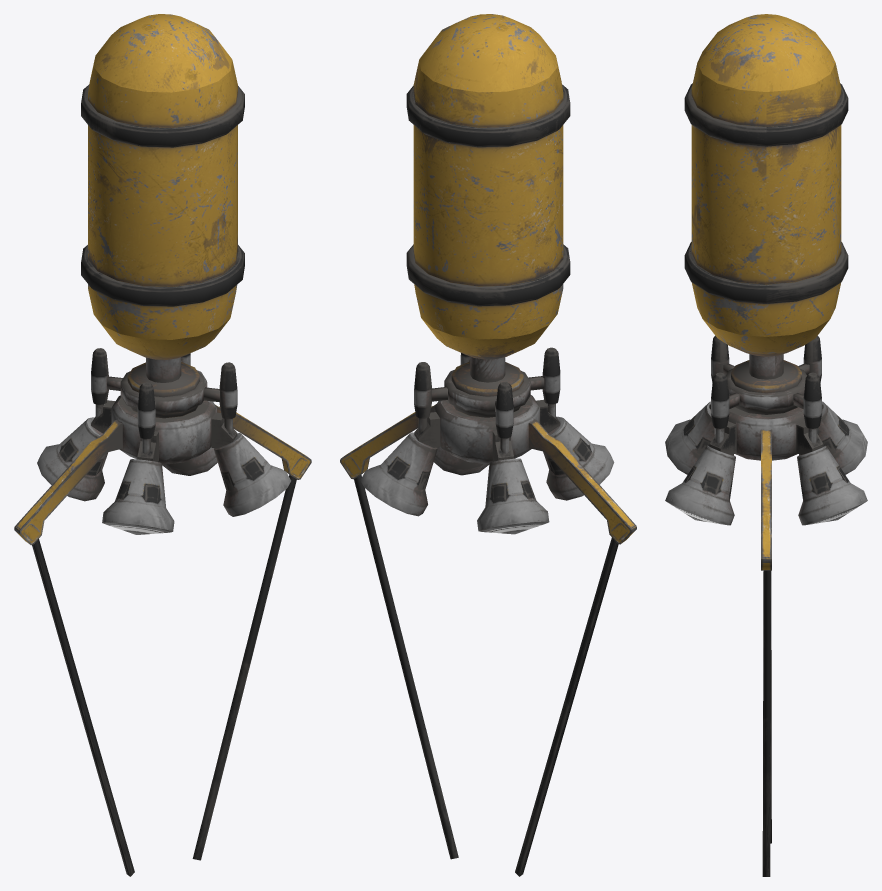
File: Signal_Light_A_Top.FBX
3 views of the same model, side by side, from view 1: azimuth 30°, elevation 25°; view 2: azimuth 150°, elevation 25°; view 3: azimuth 270°, elevation 25° (orthographic).
Parts seen in each view (by area): view 1: Geometry_Light_A_Top_LOD00; view 2: Geometry_Light_A_Top_LOD00; view 3: Geometry_Light_A_Top_LOD00.
Part boxes in pixels (<box>): Geometry_Light_A_Top_LOD00: <box>14,14,311,876</box>; Geometry_Light_A_Top_LOD00: <box>340,14,636,876</box>; Geometry_Light_A_Top_LOD00: <box>665,14,867,876</box>.
Size of what is drawn, in the model's own units: 1322 by 803 by 3667.
